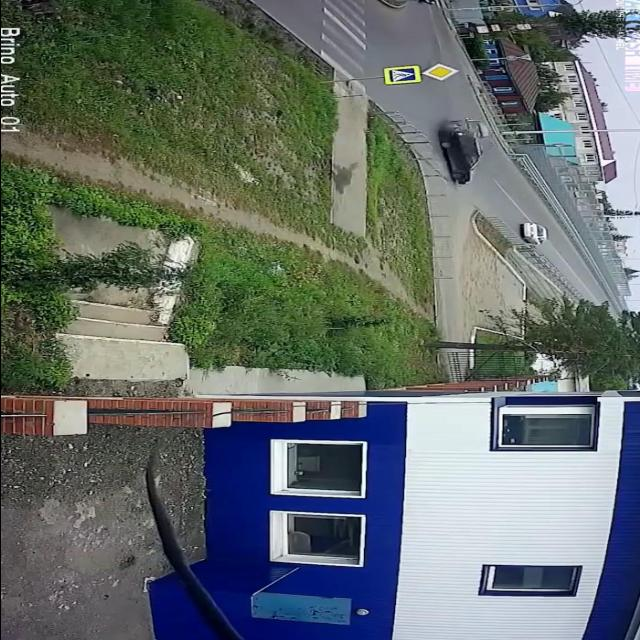accident: (430, 113, 494, 188)
